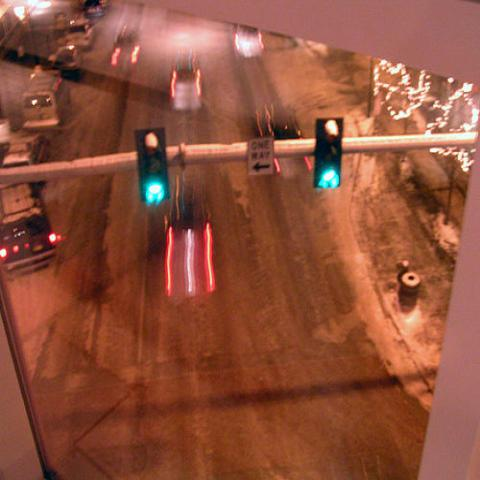car: (0, 181, 59, 281), (169, 48, 202, 116), (2, 131, 50, 165), (112, 29, 141, 64), (235, 25, 264, 57), (65, 18, 95, 48), (53, 46, 83, 71), (83, 0, 106, 17)
